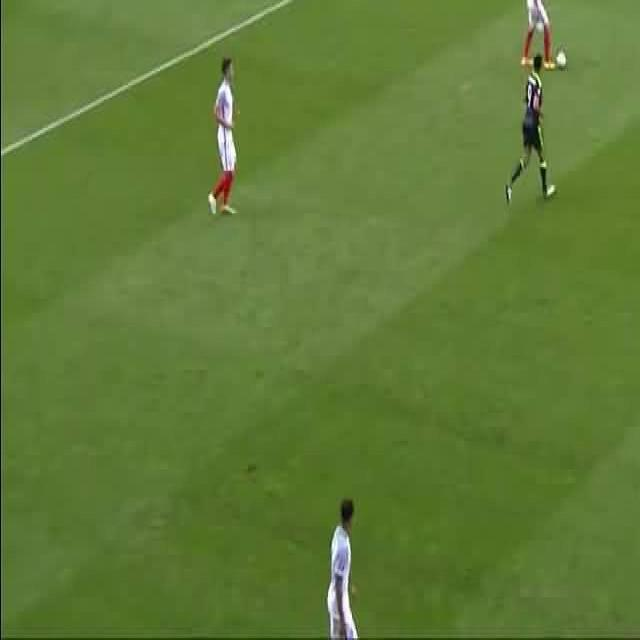ball: (556, 48, 568, 70)
player-white: (506, 53, 556, 201), (207, 58, 241, 220), (326, 495, 358, 640), (519, 0, 555, 73)
